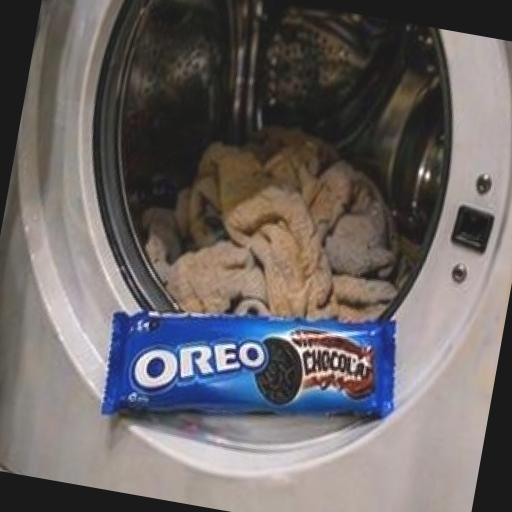oreo: (48, 203, 469, 512)
